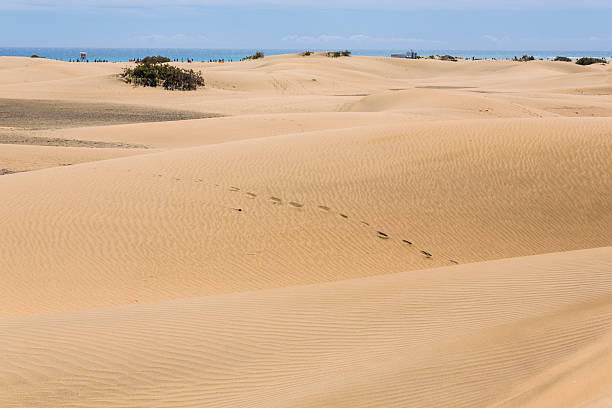human_foot_print: (417, 248, 432, 258), (269, 196, 281, 204), (289, 201, 303, 207), (377, 231, 389, 238), (318, 205, 330, 211), (245, 192, 256, 198)
